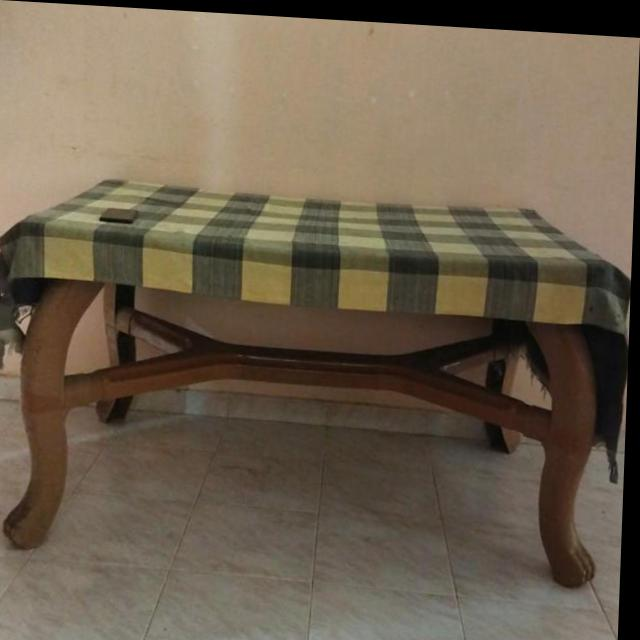Table: (0, 149, 636, 623)
